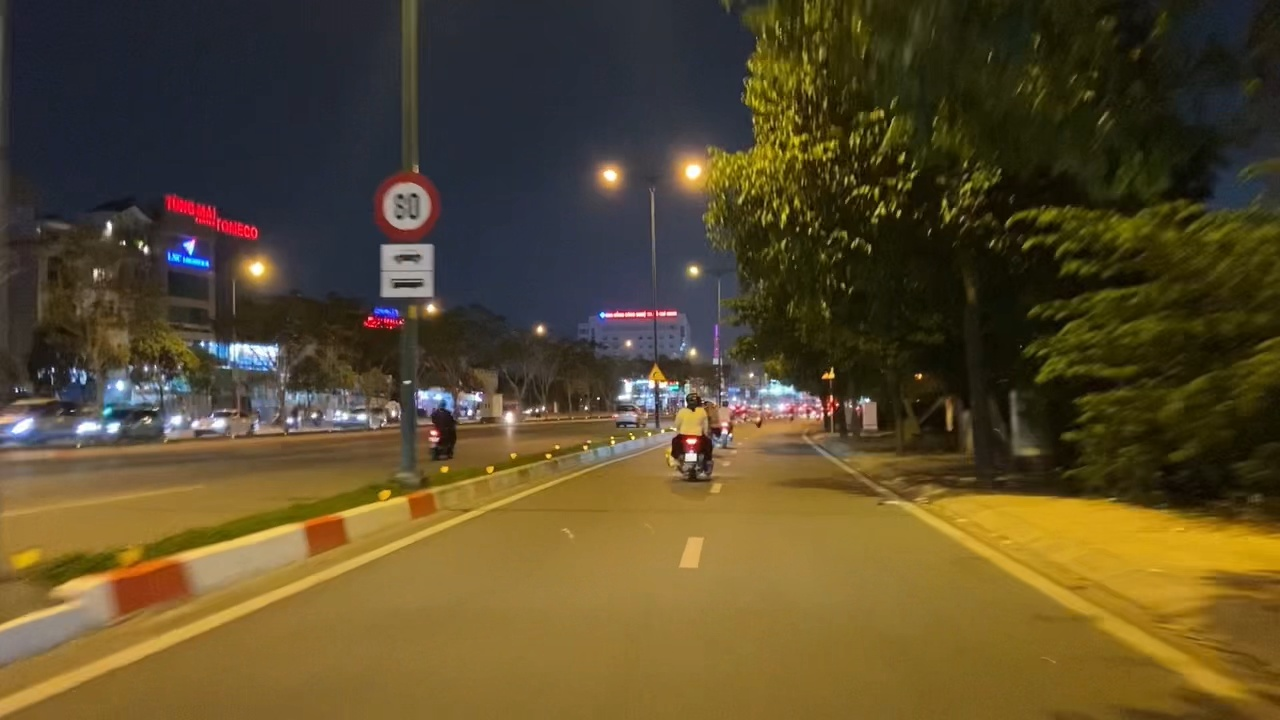gioi_han_80km: (367, 167, 443, 248)
